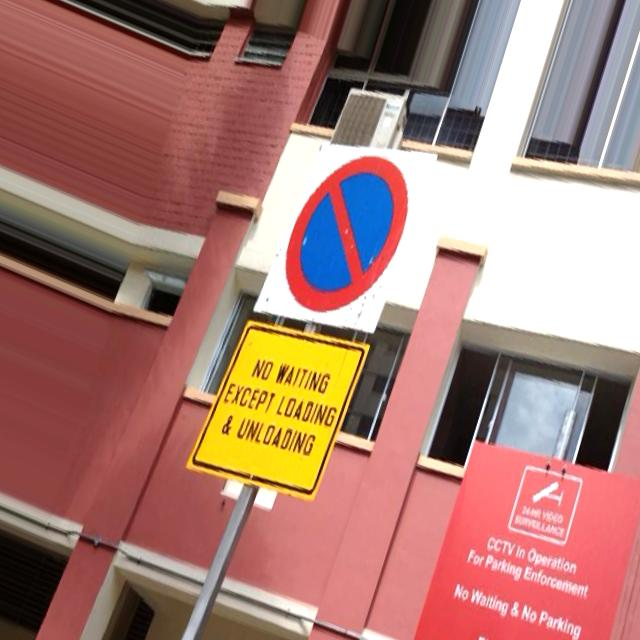forb_stopping: (284, 156, 410, 313)
